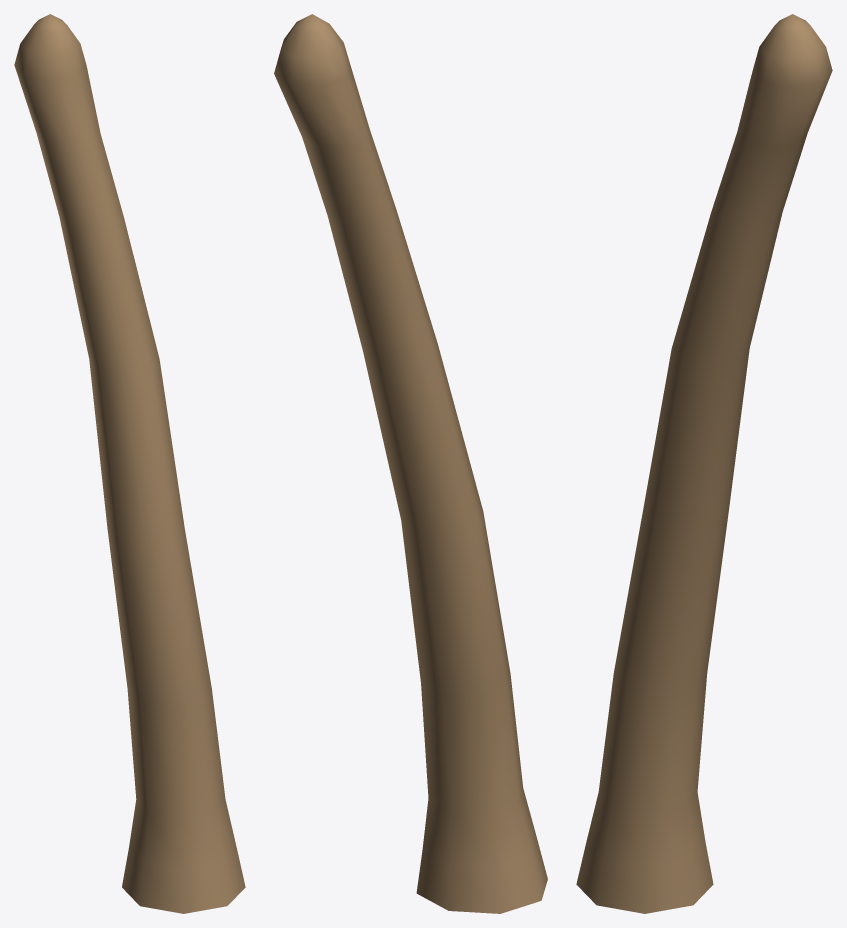
Rendered from palm_young.glb.
3 views of the same model, side by side, from view 1: azimuth 90°, elevation 25°; view 2: azimuth 150°, elevation 25°; view 3: azimuth 270°, elevation 25° (orthographic). The views are drawn at different scales.
Parts seen in each view (by area): view 1: palm_young; view 2: palm_young; view 3: palm_young.
Boxes of the visible parts, box(x1,y1,x2,y2) form: palm_young: box(14, 14, 245, 913); palm_young: box(274, 14, 547, 913); palm_young: box(576, 14, 832, 913).
Bounding box in the file's own units: 1.37 × 6.18 × 1.56.
